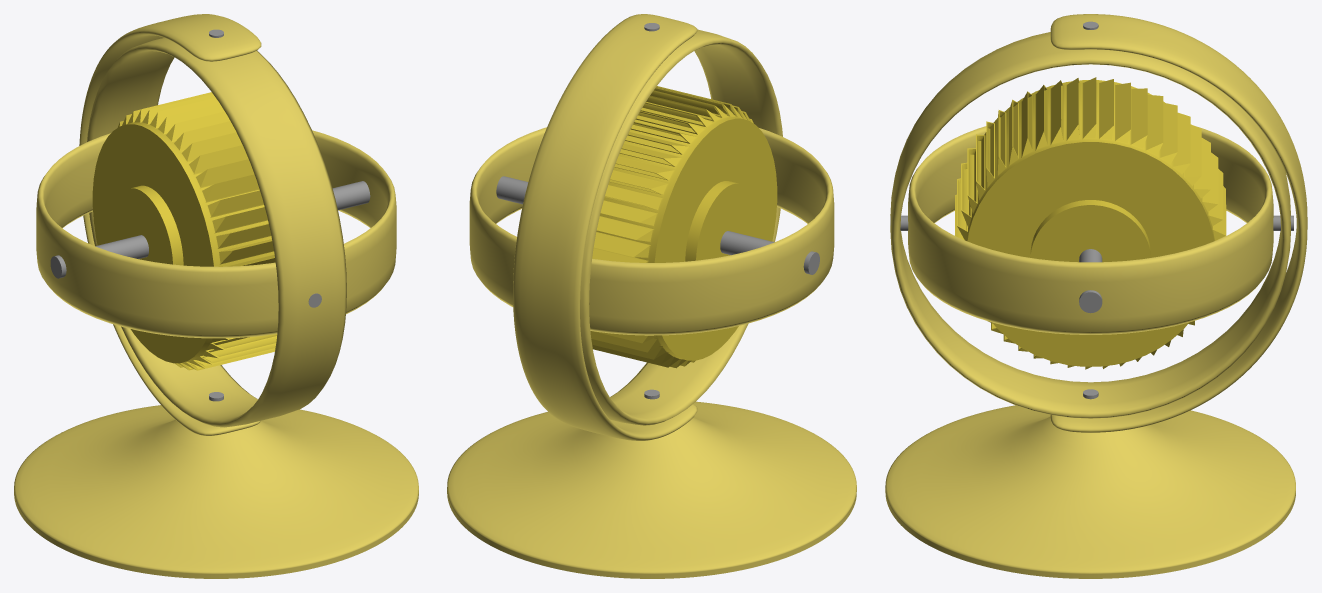
Rendered from collada_gyro.dae.
3 renders of one model, left to right at view 1: azimuth 30°, elevation 25°; view 2: azimuth 150°, elevation 25°; view 3: azimuth 270°, elevation 25°, orthographic.
Visible parts, largest first — view 1: frame, gimbal_outer, gimbal_inner, gyro, gyro_axis; view 2: frame, gyro, gimbal_inner, gimbal_outer, gyro_axis; view 3: frame, gyro, gimbal_inner, gimbal_outer, gyro_axis.
Boxes of the visible parts, box(x1,y1,x2,y2) form: frame: box(14, 14, 418, 578); gimbal_outer: box(87, 38, 346, 427); gimbal_inner: box(36, 130, 396, 338); gyro: box(92, 92, 277, 370); gyro_axis: box(50, 181, 370, 278); frame: box(447, 14, 856, 578); gyro: box(590, 86, 777, 368); gimbal_inner: box(469, 127, 834, 335); gimbal_outer: box(580, 29, 782, 425); gyro_axis: box(496, 176, 819, 274); frame: box(885, 14, 1307, 578); gyro: box(955, 77, 1226, 369); gimbal_inner: box(908, 126, 1273, 334); gimbal_outer: box(890, 32, 1290, 418); gyro_axis: box(1079, 249, 1102, 313).
Size of the model in its own units: 8.75 by 9 by 10.99.
